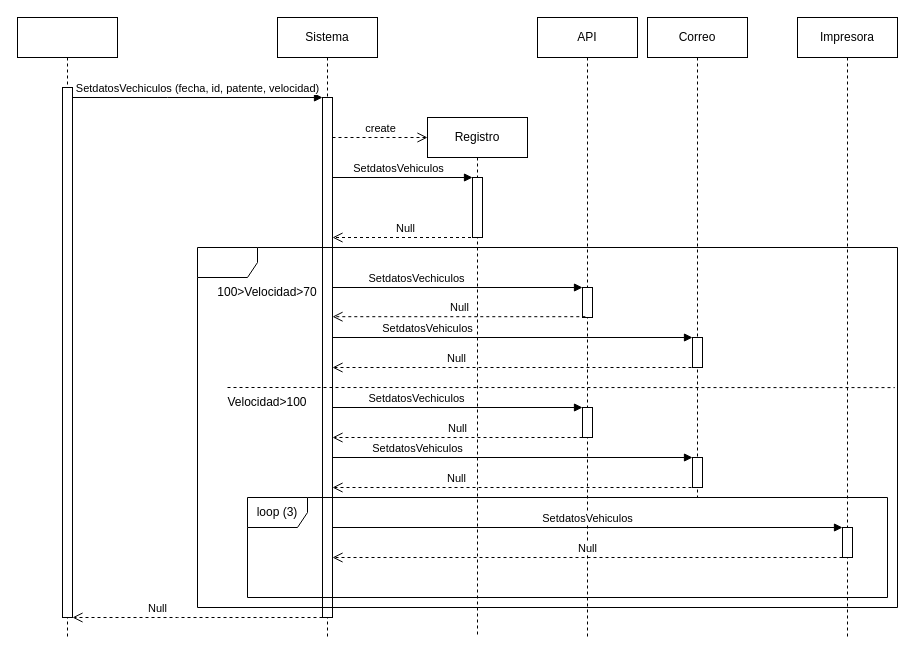
This 915x655 diagram has some shape labels left out. Here are the shapes that lost their labels. From the top down, the box of each, then its label:
(16, 16, 118, 638): Cámara
(196, 246, 898, 608): int
